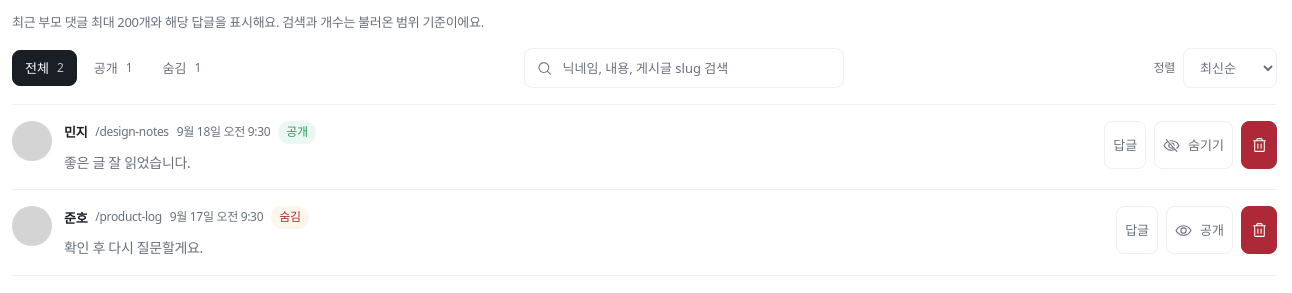
Test case: AdminComments › 상태 탭과 닉네임·본문·slug 검색을 함께 적용한다
Expected: the text "민지" is shown, [64, 122, 87, 142]
Click the tab named "숨김1" at (182, 68), box [150, 50, 214, 86]
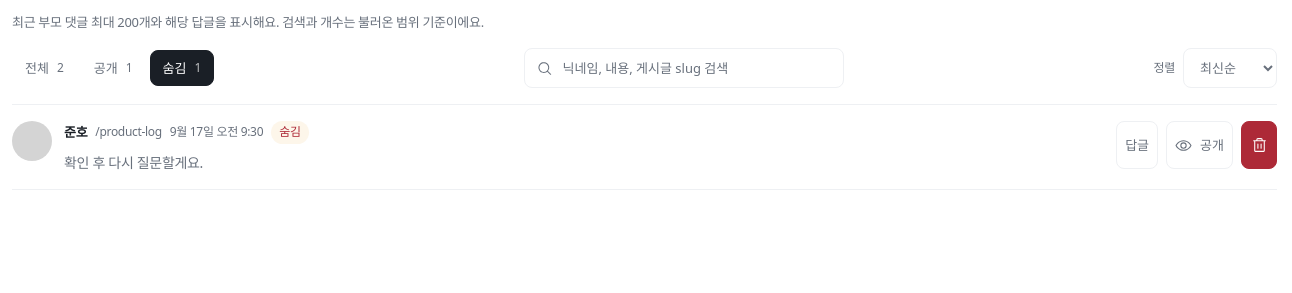
Expected: the text "준호" is shown, [64, 122, 87, 142]
Now the text "민지" is gone
Type "design-notes" into the search field at (696, 68), box [561, 57, 831, 79]
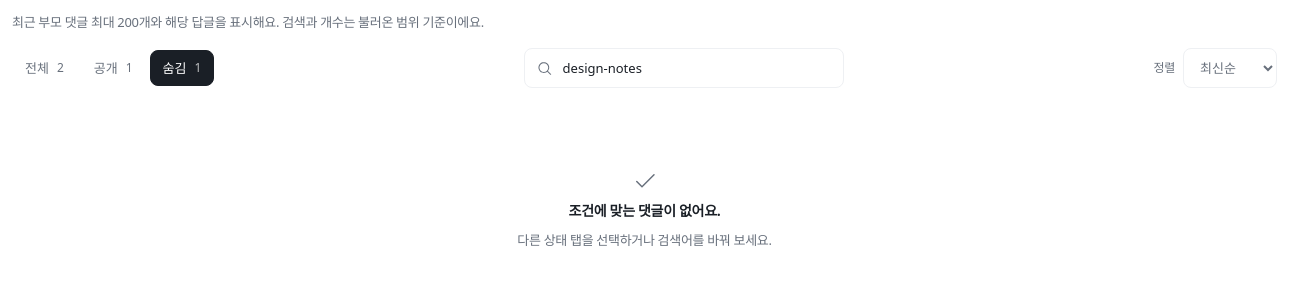
Now the text "조건에 맞는 댓글이 없어요." is shown, box [569, 200, 720, 222]
Now the text "다른 상태 탭을 선택하거나 검색어를 바꿔 보세요." is shown, box [517, 230, 772, 250]
